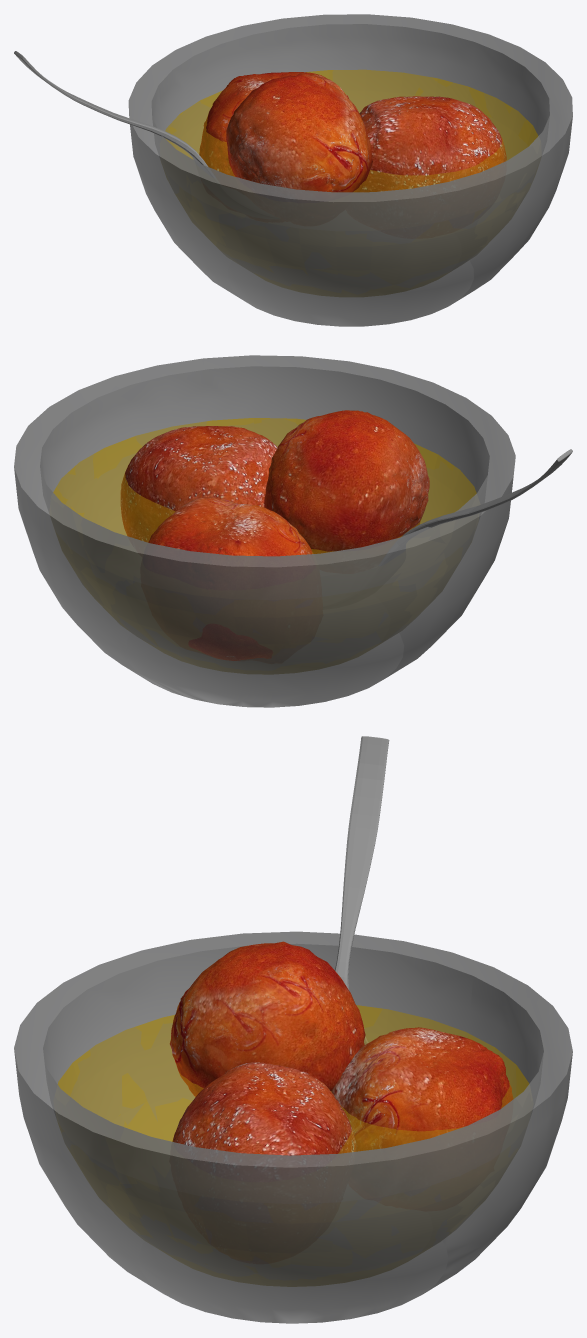
Rendered from gulabjamun.glb.
The picture shows the model from 3 angles, top to bottom: view 1: azimuth 30°, elevation 25°; view 2: azimuth 150°, elevation 25°; view 3: azimuth 270°, elevation 25°; orthographic projection. The views are drawn at different scales.
Visible parts, largest first — view 1: glass_0, gl04_2_0, shirop_0, gl01_2_0, gl02_2_0, Spoon_0; view 2: glass_0, gl04_2_0, shirop_0, gl01_2_0, gl02_2_0, Spoon_0; view 3: glass_0, gl04_2_0, shirop_0, gl02_2_0, gl01_2_0, Spoon_0.
Part boxes in pixels (x1,y1,x2,y2): glass_0: [128, 14, 572, 326]; gl04_2_0: [226, 73, 372, 192]; shirop_0: [165, 69, 537, 295]; gl01_2_0: [359, 96, 506, 192]; gl02_2_0: [199, 72, 348, 176]; Spoon_0: [14, 51, 208, 166]; glass_0: [14, 355, 515, 707]; gl04_2_0: [264, 410, 429, 553]; shirop_0: [53, 418, 476, 624]; gl01_2_0: [120, 426, 277, 542]; gl02_2_0: [148, 497, 313, 660]; Spoon_0: [401, 449, 572, 536]; glass_0: [14, 931, 572, 1323]; gl04_2_0: [169, 941, 365, 1096]; shirop_0: [57, 1005, 529, 1285]; gl02_2_0: [331, 1027, 513, 1151]; gl01_2_0: [172, 1062, 356, 1155]; Spoon_0: [335, 736, 389, 1044].
Bounding box in the file's own units: 5.74 × 3 × 4.49.
6 materials, 3 textured.
